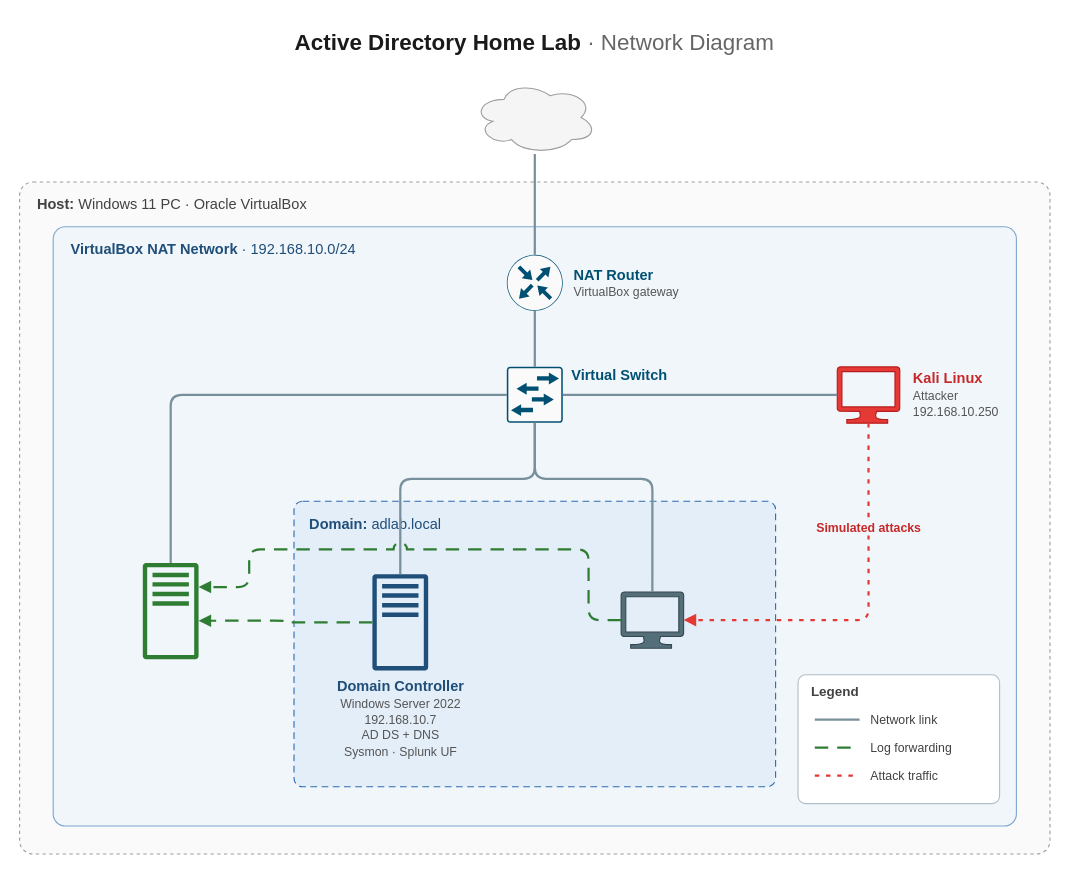
This 1070x874 diagram has some shape labels left out. Here are the shapes that lost their labels. From the top down, the centre of each, then its label:
At point 534,117: "Internet".
At point 170,610: "Splunk Server Ubuntu Server 192.168.10.10 Splunk Enterprise Index: endpoint".
At point 652,619: "Target PC Windows 11 192.168.10.100 Sysmon · Splunk UF".
